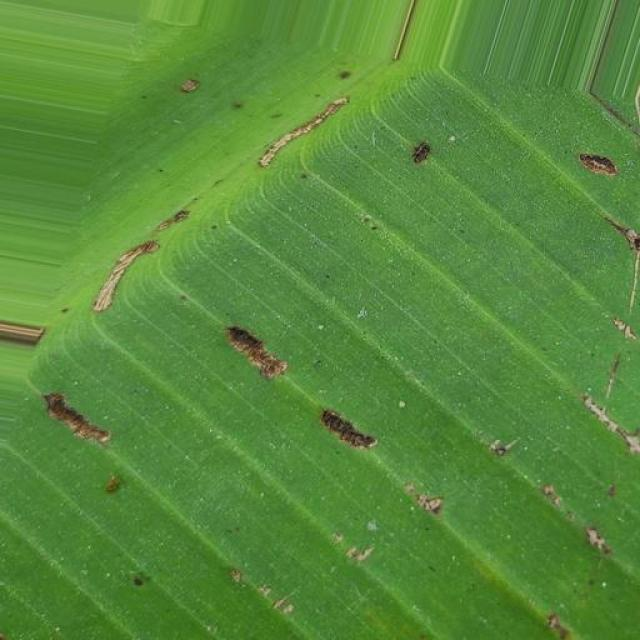Black_rot: (1, 50, 640, 585)
